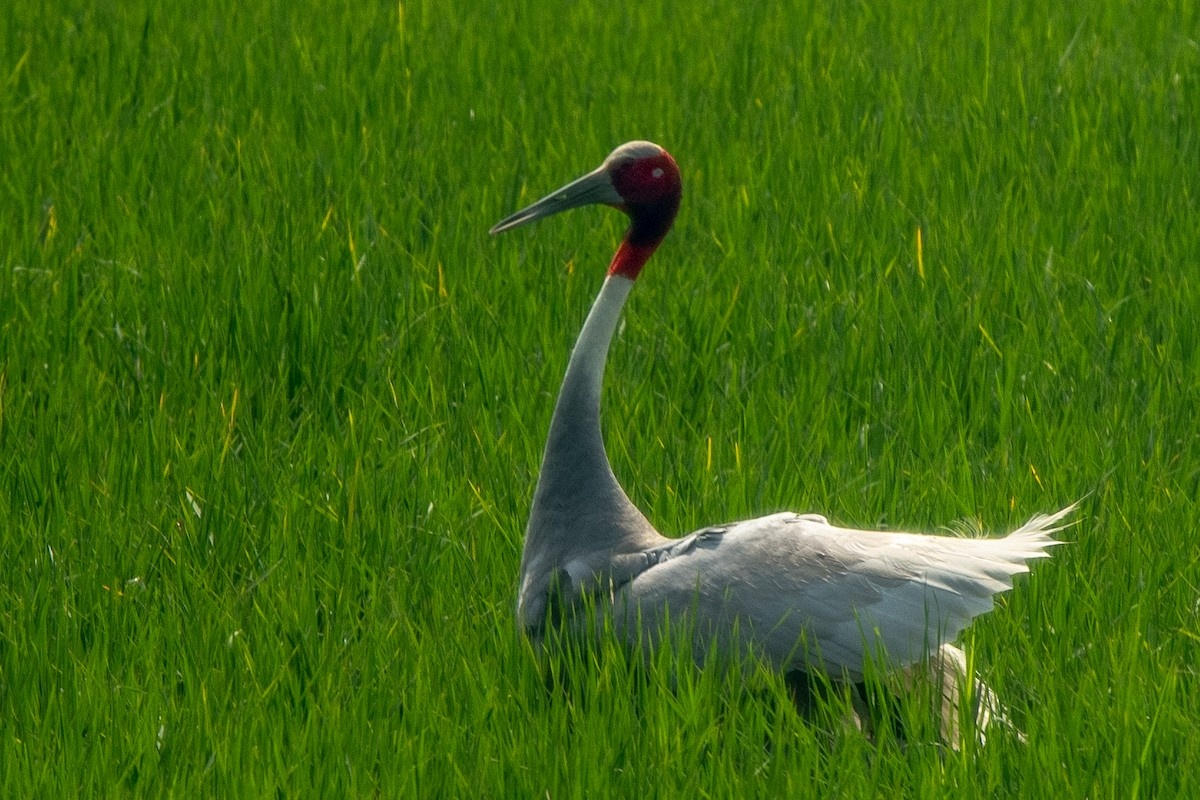crane: (486, 118, 1029, 686)
